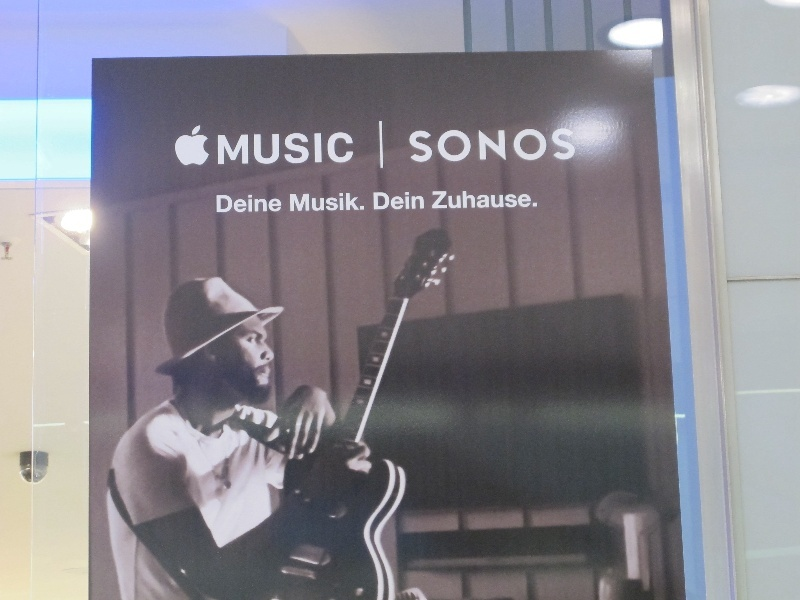text: (417, 127, 432, 165), (433, 127, 448, 165), (449, 127, 464, 165), (465, 127, 480, 165), (481, 127, 496, 165), (497, 127, 512, 165), (513, 127, 528, 165), (529, 127, 544, 165), (545, 127, 560, 165), (561, 127, 576, 165), (225, 131, 240, 166), (241, 131, 256, 166), (257, 131, 272, 166), (273, 131, 288, 166), (289, 131, 304, 166), (305, 131, 320, 166), (321, 131, 336, 166), (337, 131, 352, 166), (225, 194, 240, 214), (241, 194, 256, 214), (257, 194, 272, 214), (305, 192, 320, 212), (321, 192, 336, 212), (337, 192, 352, 212), (385, 191, 400, 211), (401, 191, 416, 211), (433, 189, 448, 209), (449, 189, 464, 209), (465, 189, 480, 209), (481, 189, 496, 209), (497, 189, 512, 209), (513, 189, 528, 209), (290, 192, 304, 212), (409, 127, 416, 165), (217, 131, 224, 166), (353, 192, 365, 212), (373, 191, 384, 211), (273, 194, 282, 214), (529, 189, 538, 209), (216, 194, 224, 214), (417, 191, 425, 211), (353, 131, 354, 166)
